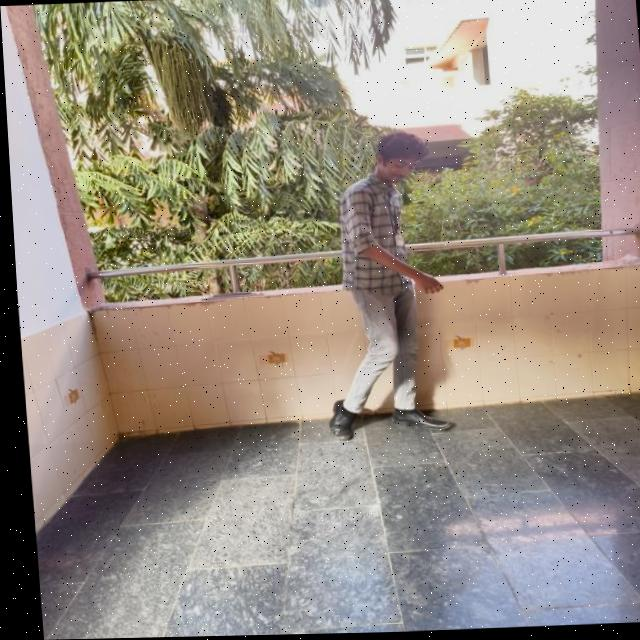id_card: (376, 180, 406, 252)
